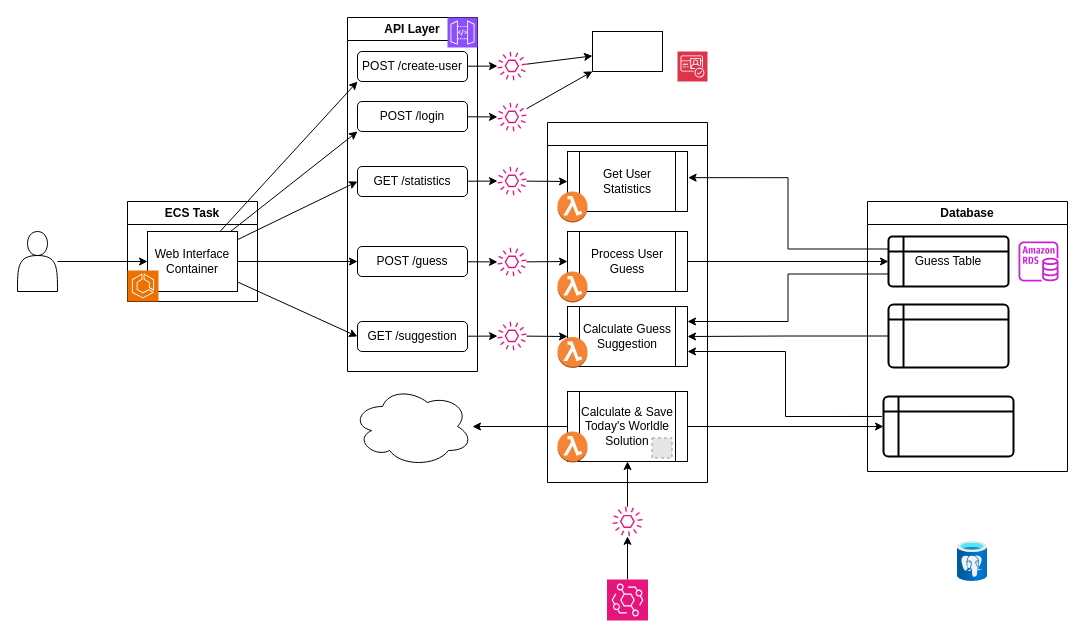
The diagram is 1085 pixels wide and 638 high, and some of its shapes have lost their labels. Grey dashed boxes stand in for pictures. The shapes that lost their labels are listed below. From the top down, each one's centre as x and y in pixels, then its label:
the point at 627,51: User Pool
the point at 627,302: Logic Layer
the point at 948,335: Valid Five Letter Words Table
the point at 412,426: Internet/NYT?
the point at 948,426: Worldle Solutions Table
